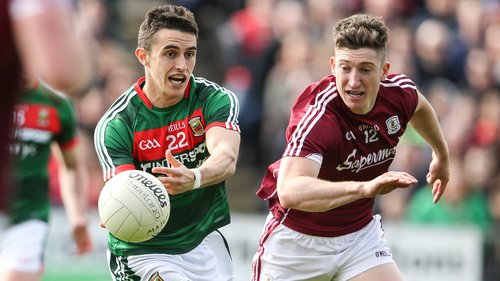ball: (100, 171, 168, 236)
player: (277, 11, 441, 271), (85, 7, 238, 268)
